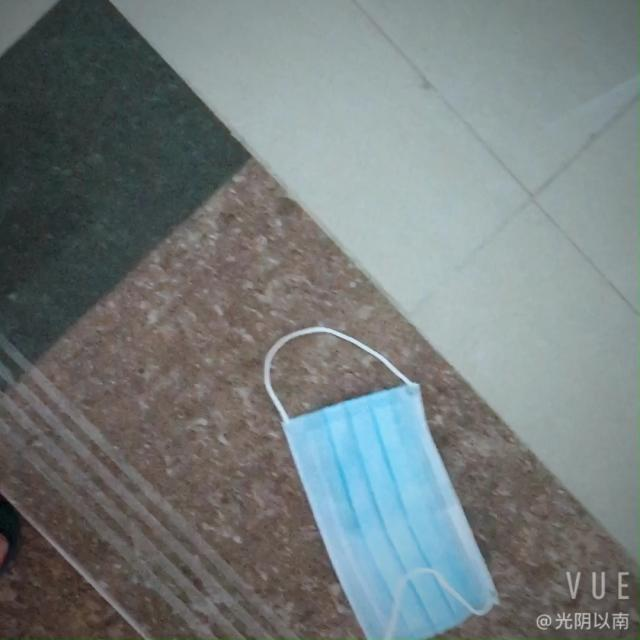non-organic waste: (283, 370, 487, 635)
